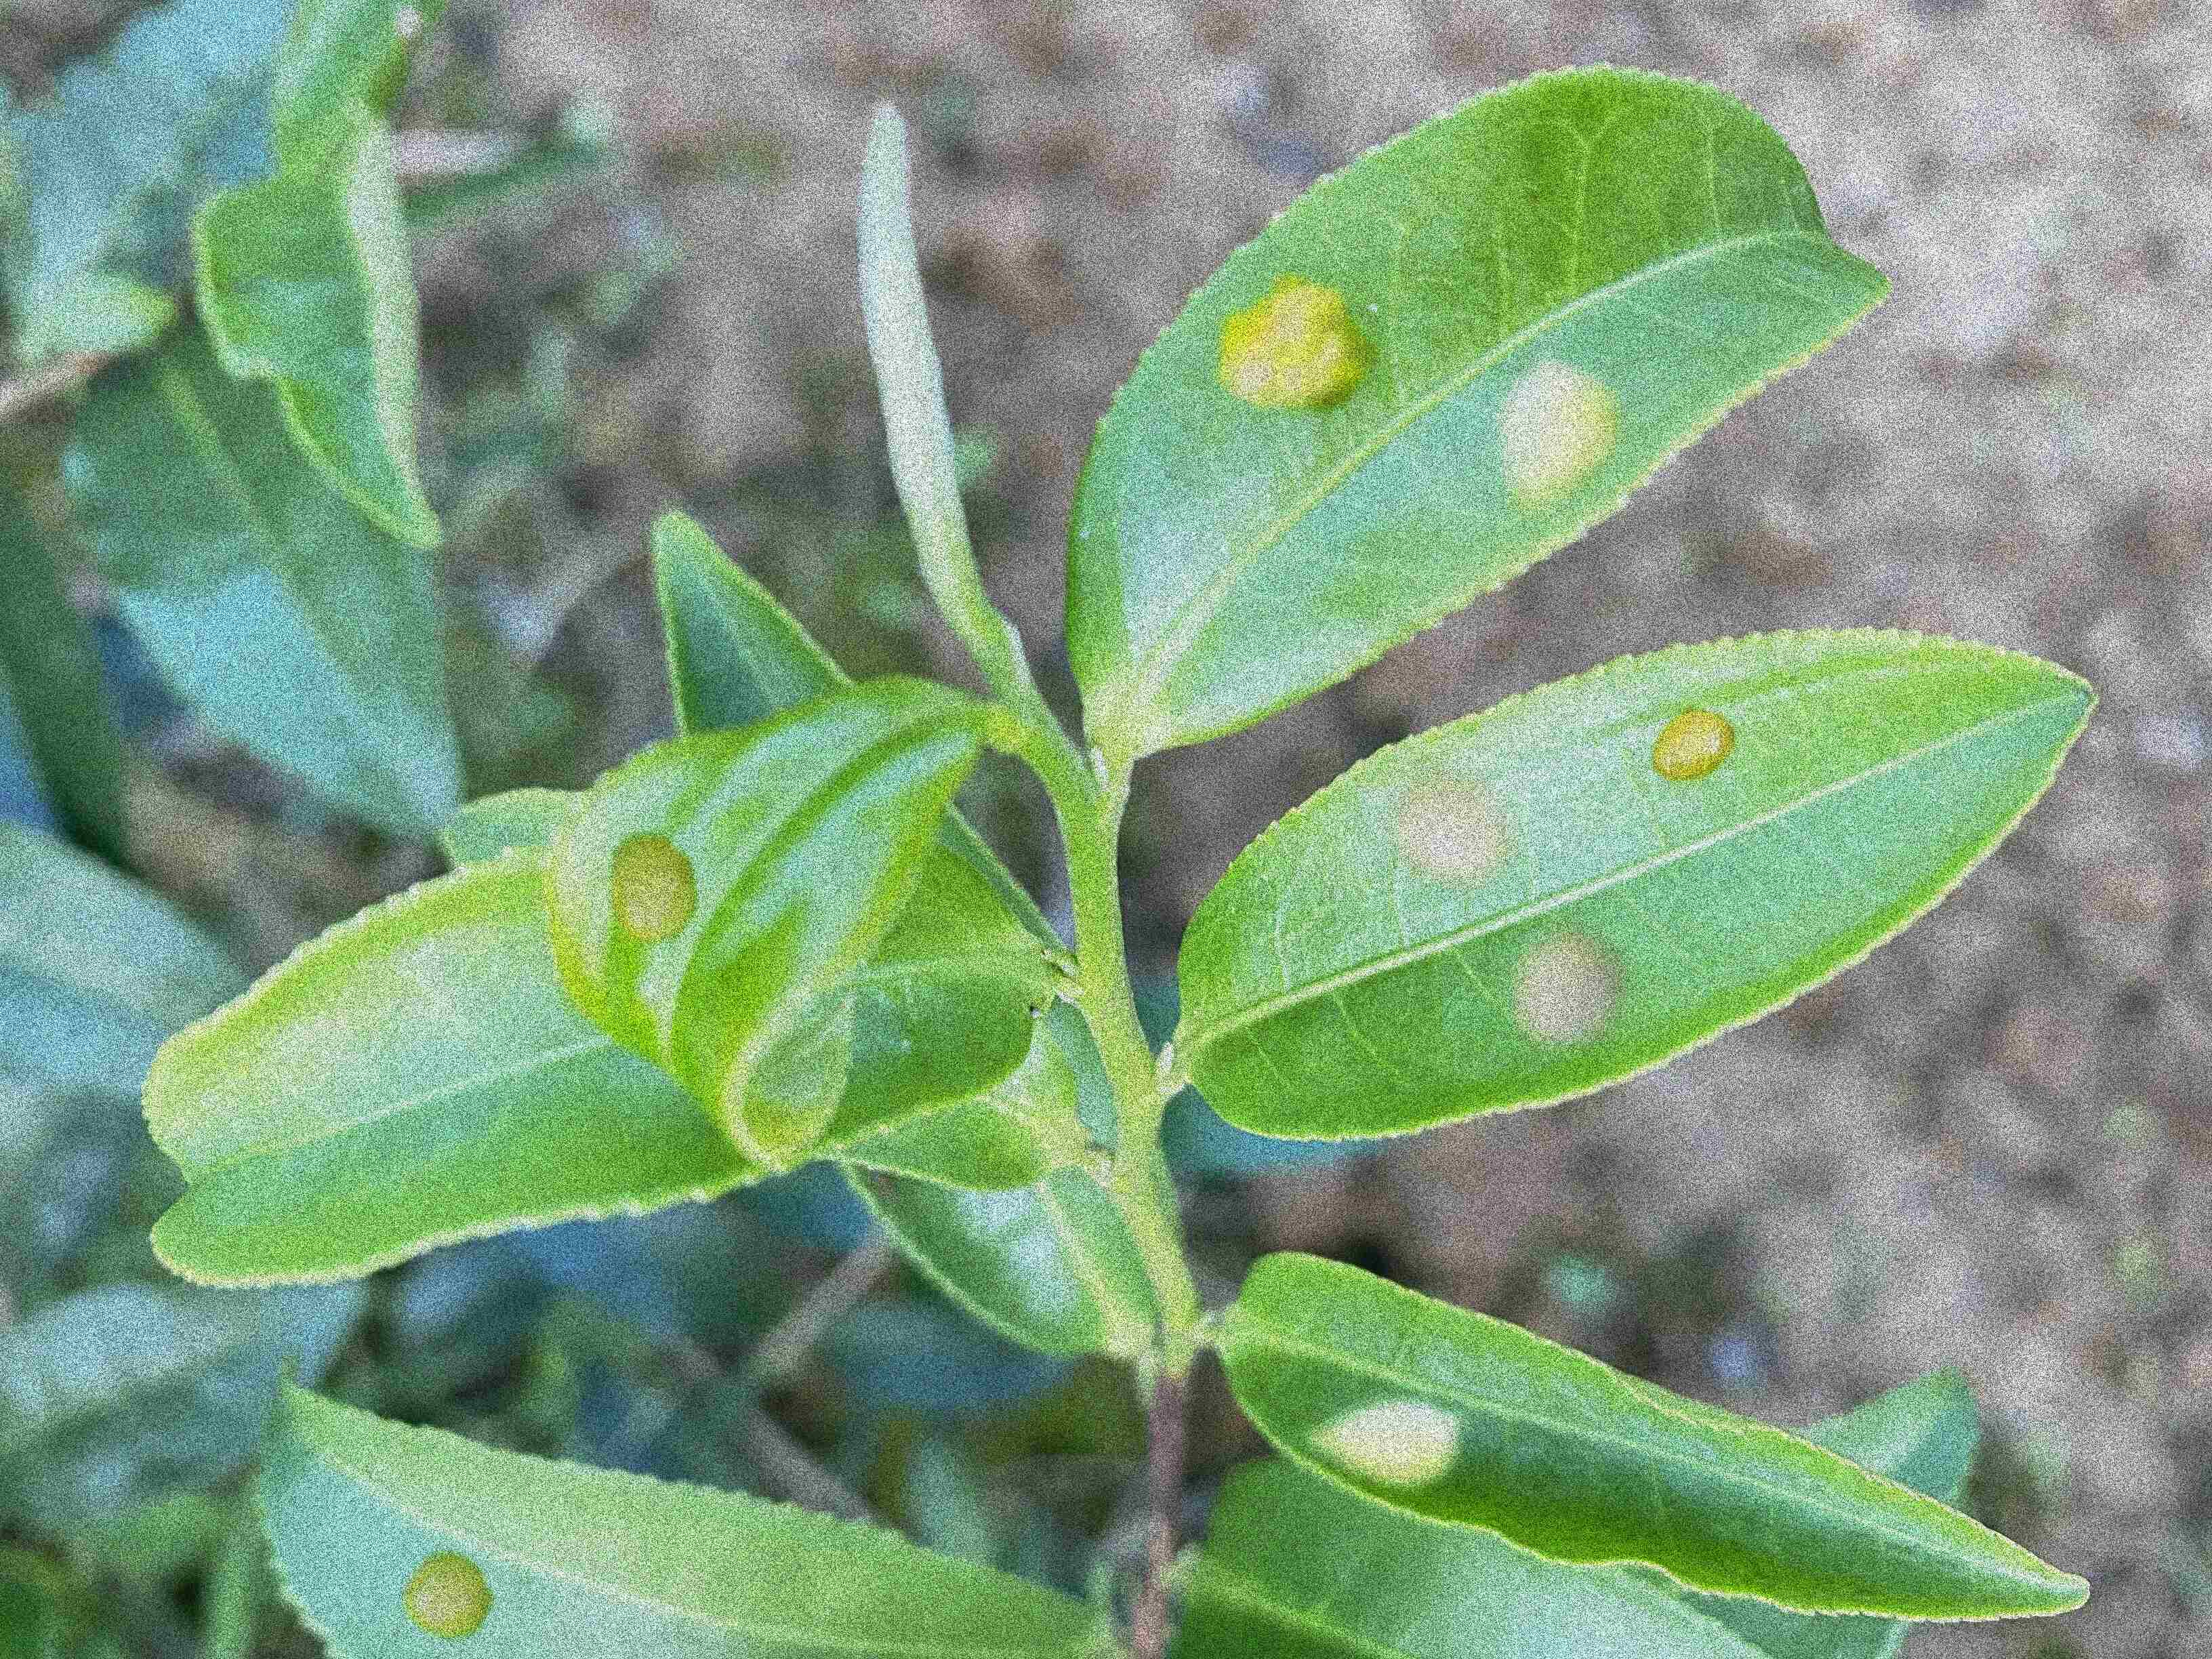chabing_high: (1066, 64, 1893, 753), (1174, 622, 2095, 1145)
chabing_low: (1221, 1251, 2094, 1624), (251, 1349, 1101, 1657), (547, 674, 993, 1168)
